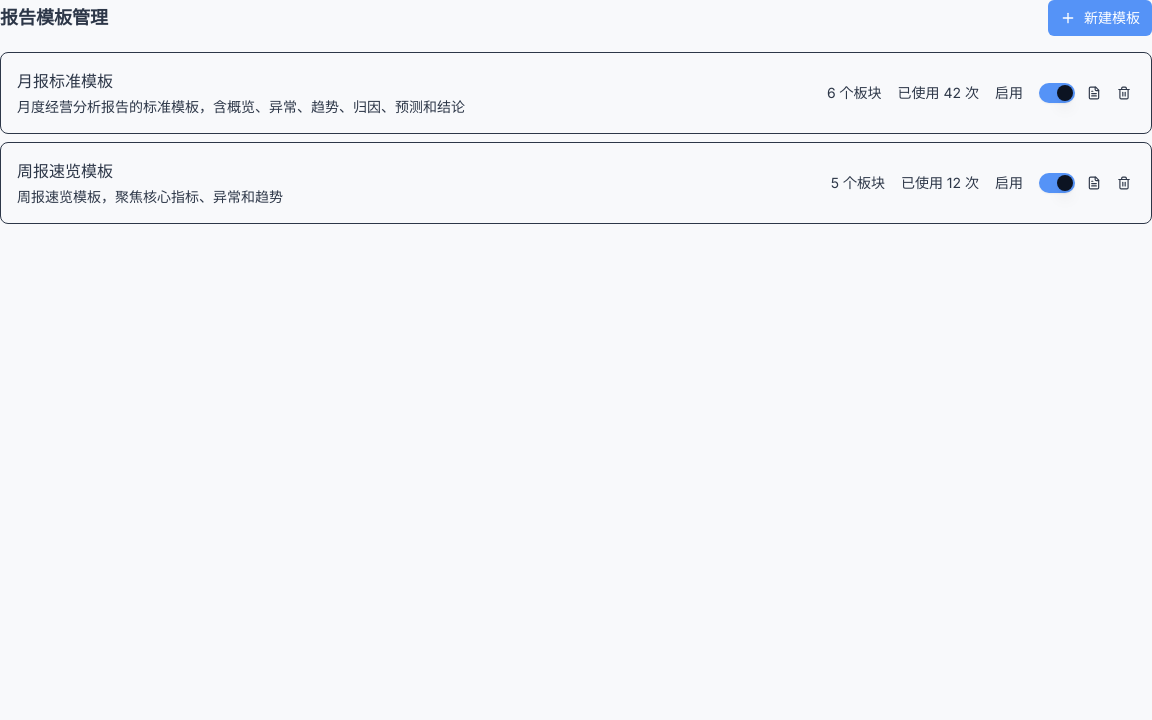
ReportTemplatesPage › generates sections via AI and fills them into the dialog
Click the button "新建模板" at (1100, 18), box [1048,0,1151,36]
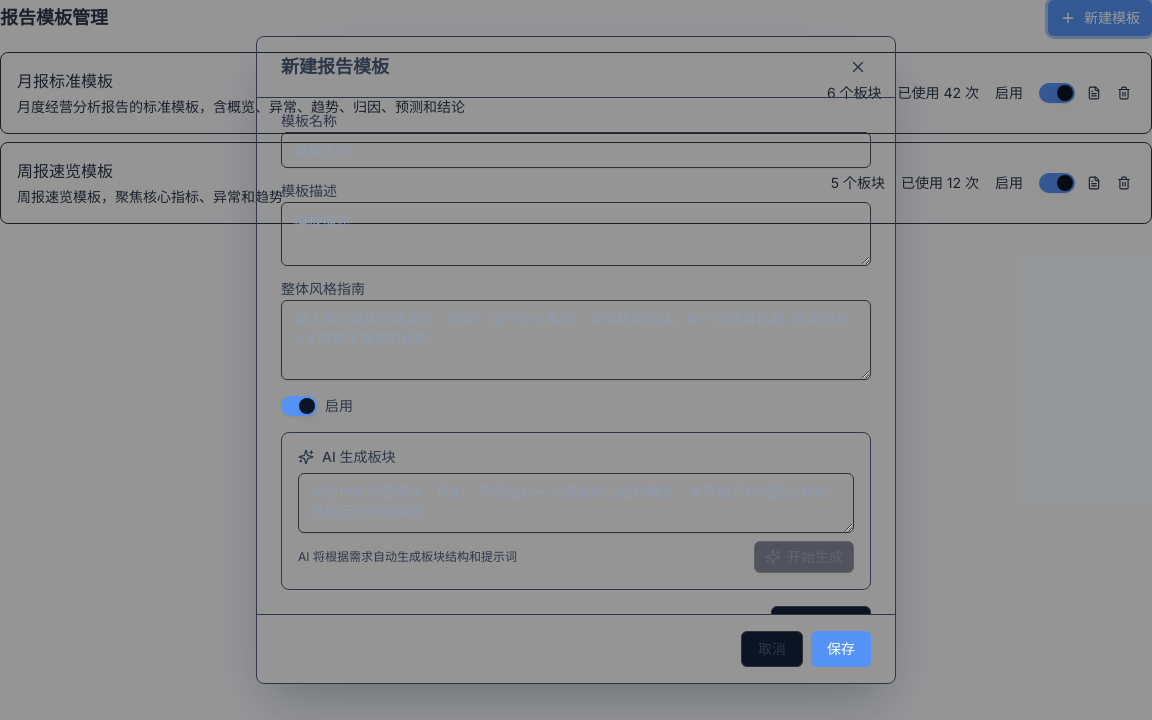
Type "月度运营分析报告" into the text box with placeholder "描述你的报告需求，例如：帮我生成一个包含核心指标概览、异常检测和归因分析的月度运营报告模板" at (576, 503), box [298,473,854,533]
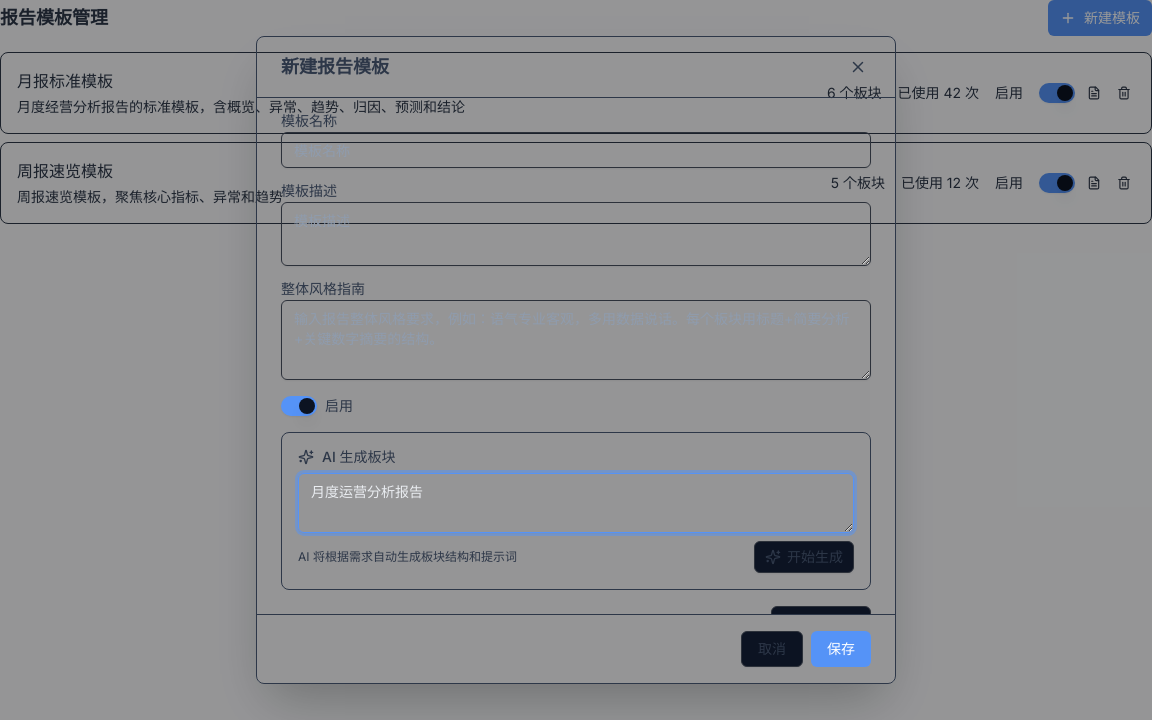
Click the button "开始生成" at (804, 557), box [754,541,854,573]
Wait 2000 ms
(page scrolled)
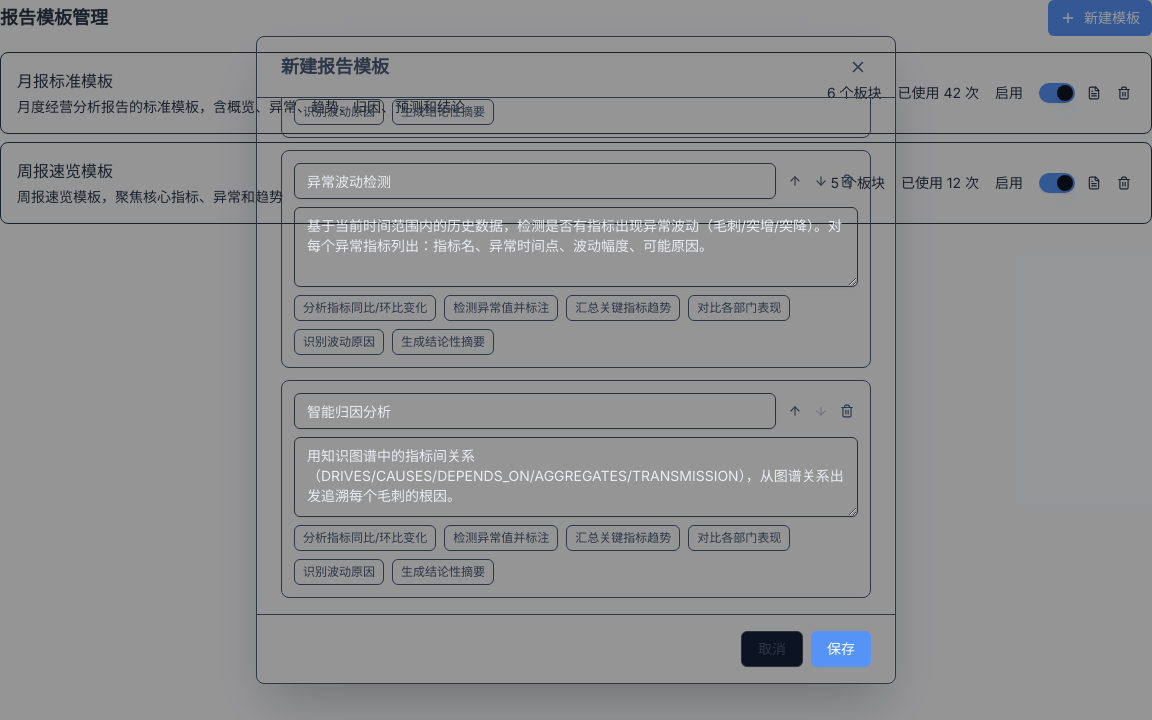
Check: the 1st field showing "异常波动检测" is shown, box [294,163,776,199]
Check: the 2nd field showing "智能归因分析" is shown, box [294,393,776,429]
